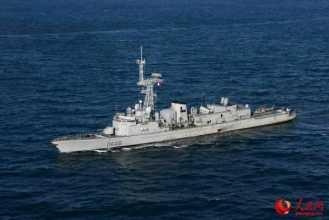warship: (52, 79, 306, 149)
